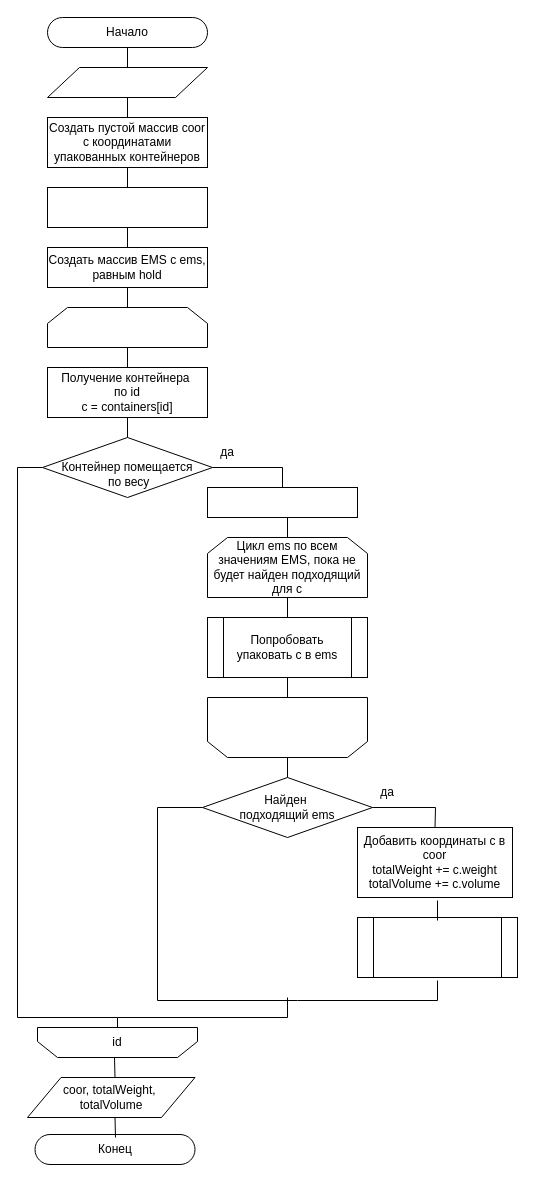
Image size: 535x1182. Some labels were removed from this diagram. The box of each missing label's shape, as (x1, y1, x2, y2) in pixels:
ems: (206, 696, 368, 758)
hold, containers, order: (46, 66, 208, 98)
i = 0: (206, 486, 358, 518)
totalWeight = 0 totalVolume = 0: (46, 186, 208, 228)
Обновить EMS: (356, 916, 518, 978)
Цикл id по всем значениям в order: (46, 306, 208, 348)
